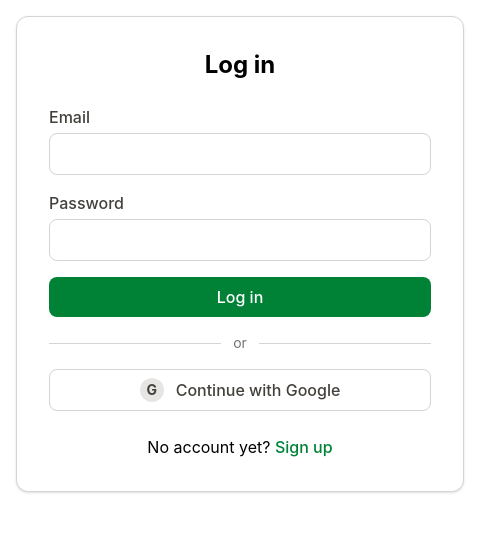
Scenario: Login page › shows an error for an invalid email
The width and height of the screenshot is (481, 534).
In the field labelled "Email": (240, 154) x1=49 y1=133 x2=431 y2=175, type "not-an-email"
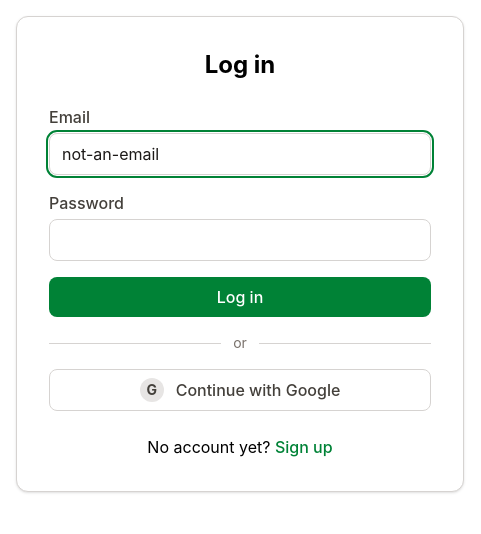
In the password field labelled "Password": (240, 240) x1=49 y1=219 x2=431 y2=261, type "secret1"
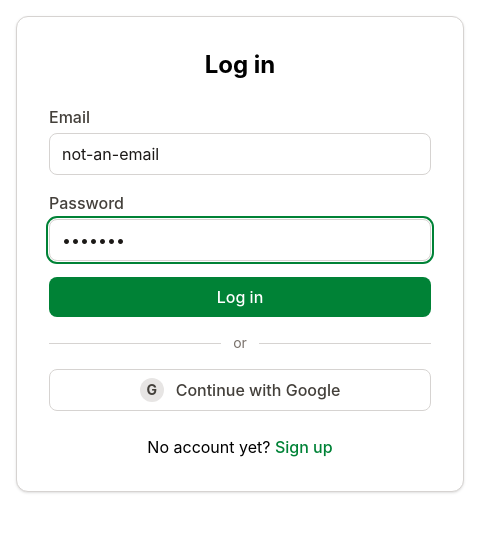
Click the button "Log in": (240, 297) x1=49 y1=277 x2=431 y2=317
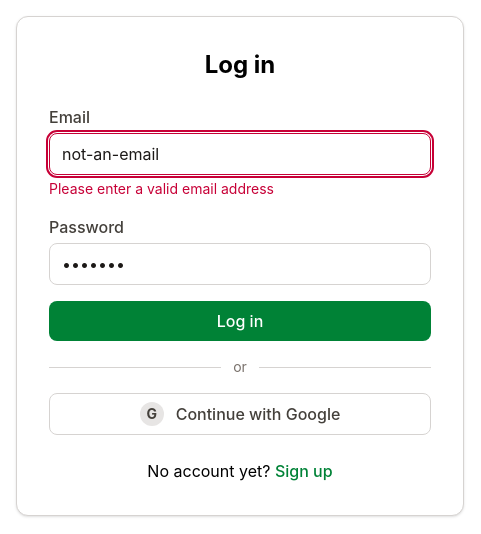
Result: the text "Please enter a valid email address" is shown at x1=49 y1=180 x2=274 y2=197
